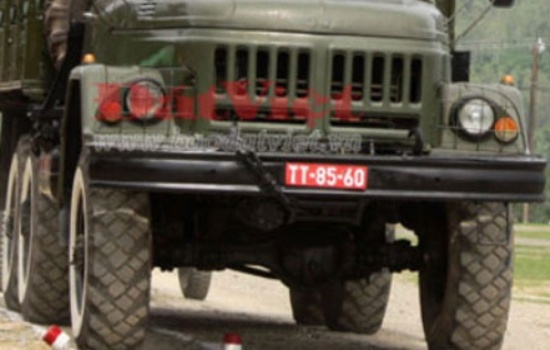plate: (283, 161, 366, 196)
